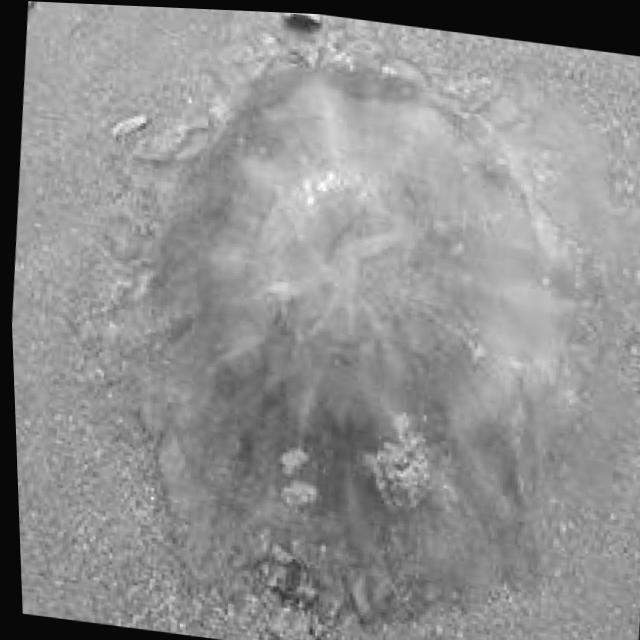Box-jellyfish: (93, 15, 640, 640)
